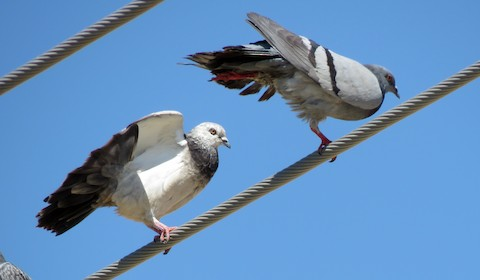pigeon: (173, 8, 405, 163), (32, 109, 234, 256)
